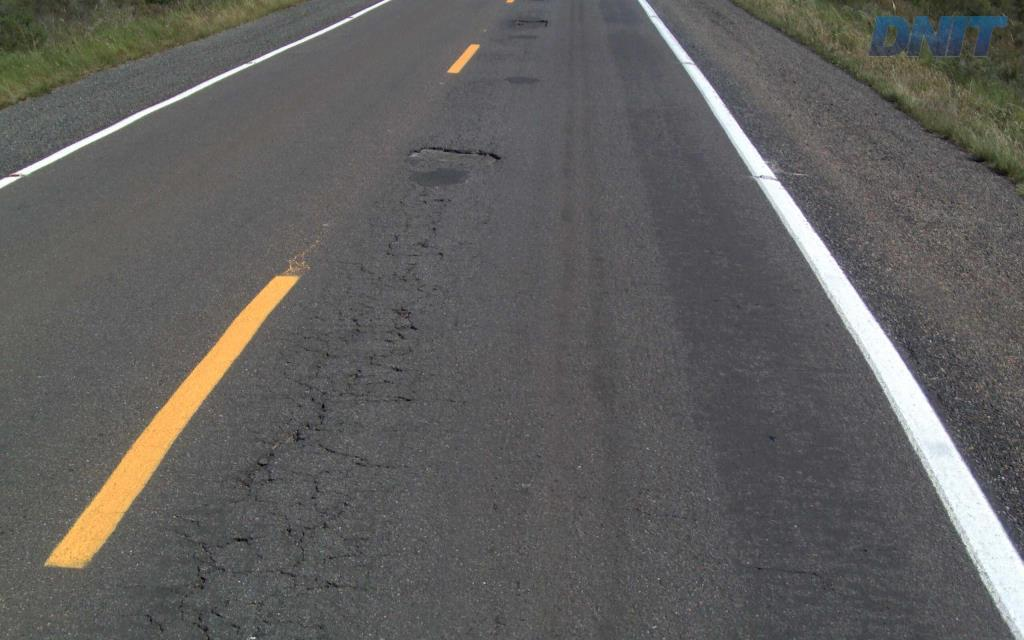pothole: (403, 139, 510, 176)
